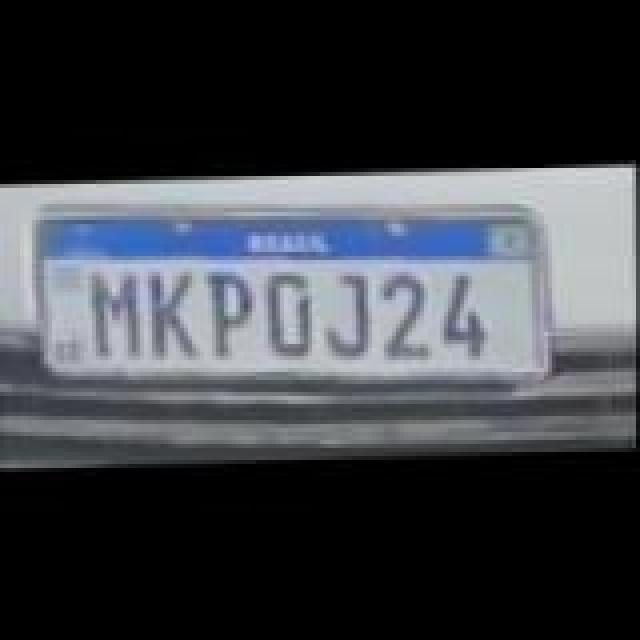2: (378, 272, 434, 356)
4: (440, 272, 492, 352)
D: (262, 270, 318, 354)
J: (322, 270, 378, 354)
K: (136, 268, 196, 356)
M: (90, 270, 146, 358)
P: (206, 270, 262, 354)
